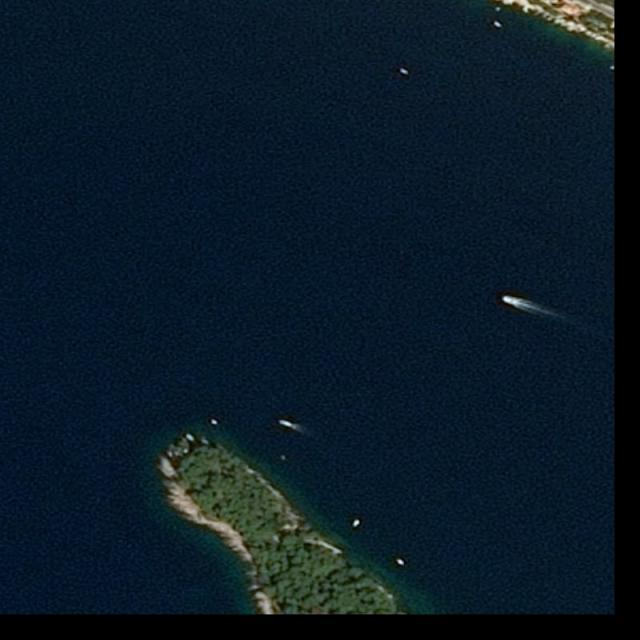ship: (278, 418, 298, 430), (502, 294, 520, 306), (352, 519, 360, 527), (397, 558, 406, 565), (400, 68, 410, 74), (494, 6, 502, 13), (494, 21, 501, 27), (211, 419, 218, 425), (281, 455, 286, 460), (610, 66, 614, 70)
